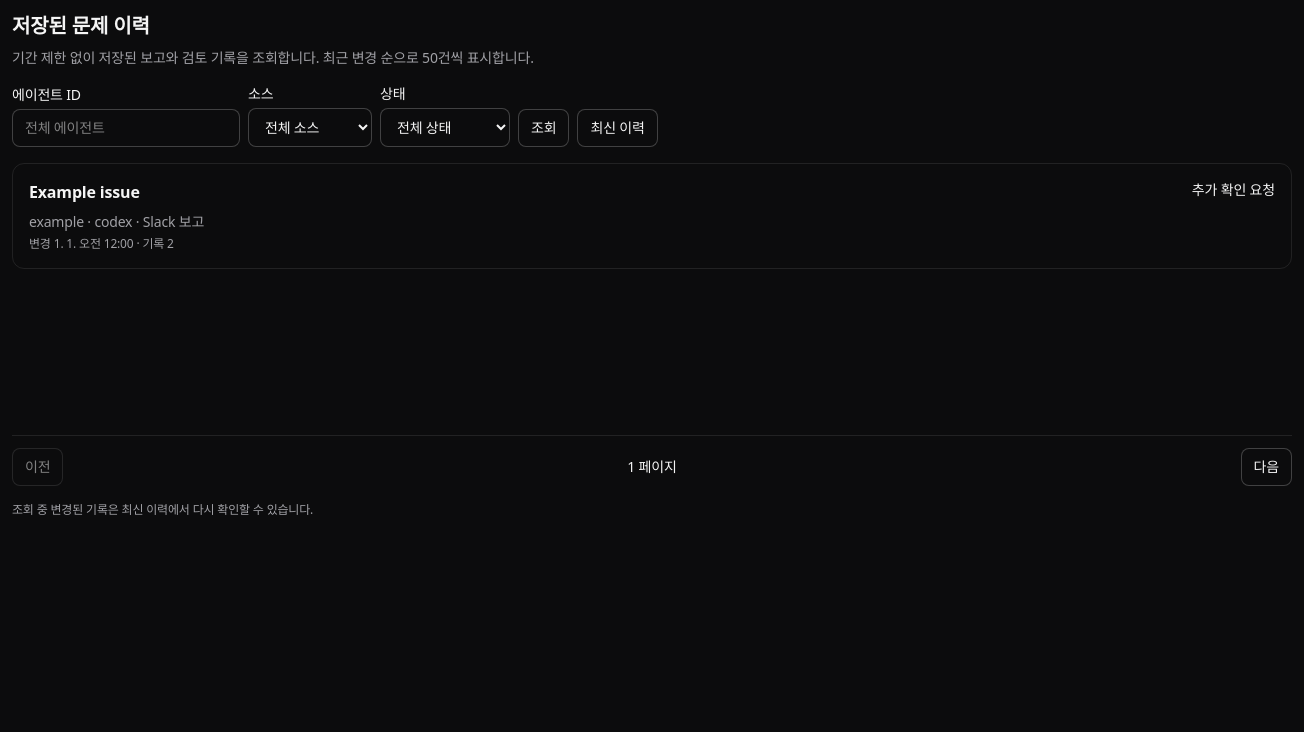
Test: saved incident history view › pages with opaque cursor and resets filters to the first page
Click the button "다음" at (1266, 467), box top-left (1241, 448), bottom-right (1292, 486)
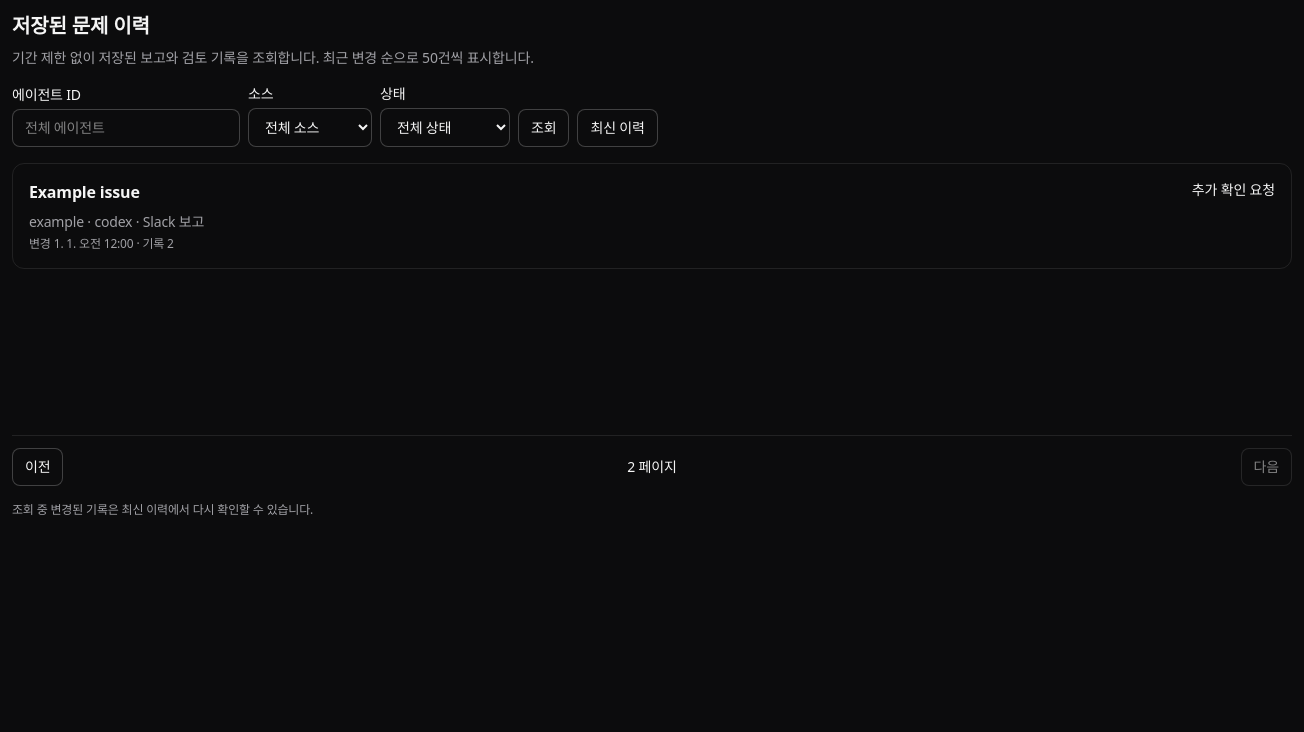
Check: the text "2 페이지" is shown, box top-left (627, 457), bottom-right (677, 477)
Select "codex" in the dropdown labelled "소스" at (310, 128), box top-left (248, 108), bottom-right (372, 147)
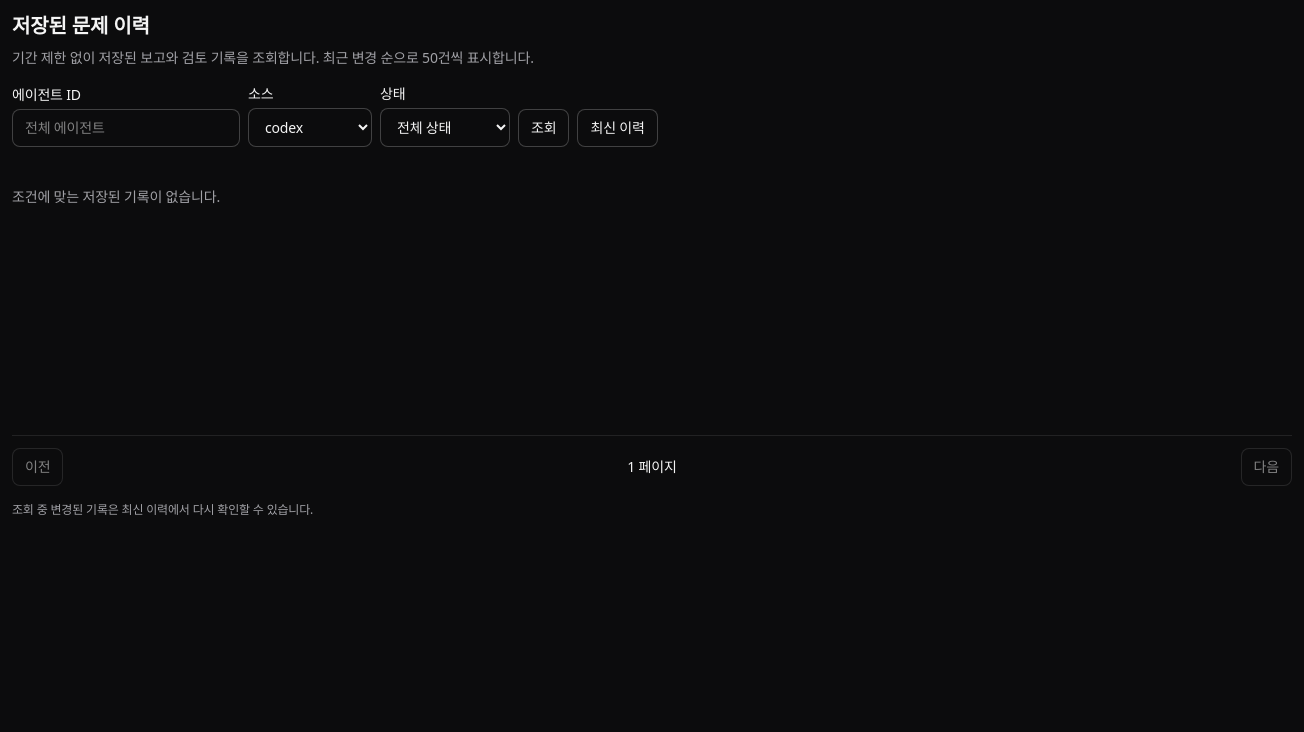
Check: the text "조건에 맞는 저장된 기록이 없습니다." is shown, box top-left (12, 187), bottom-right (220, 206)
Check: the button "이전" is disabled, box top-left (12, 448), bottom-right (63, 486)
